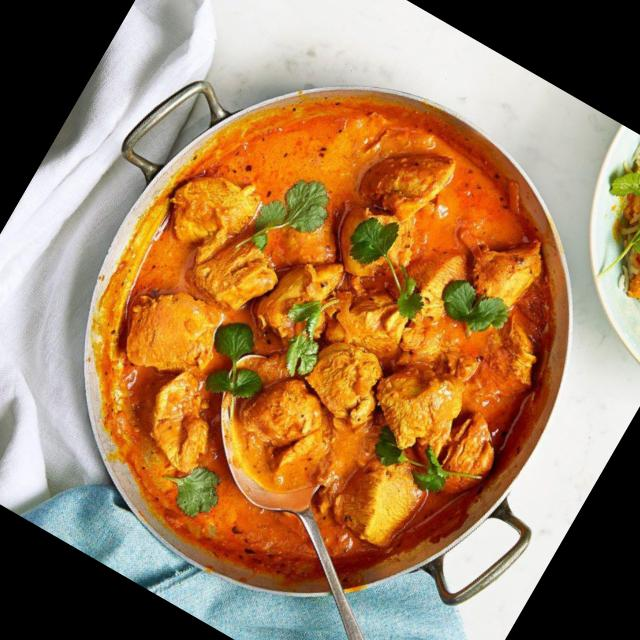chicken: (44, 77, 578, 633)
